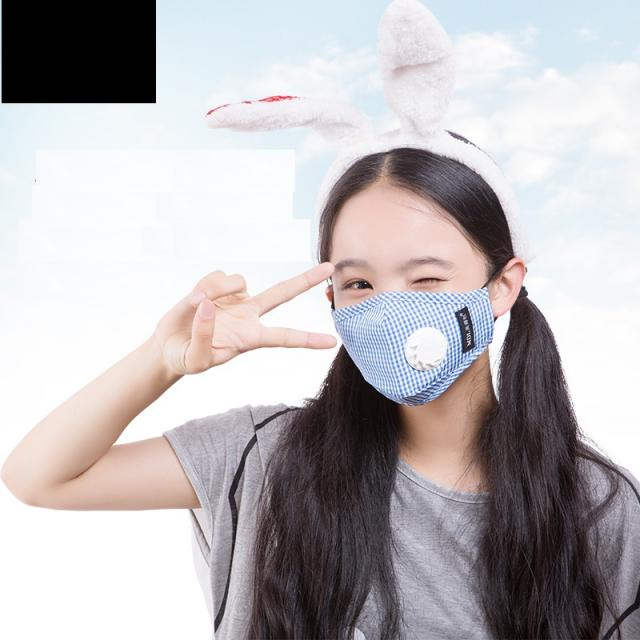mask: (329, 188, 488, 399)
